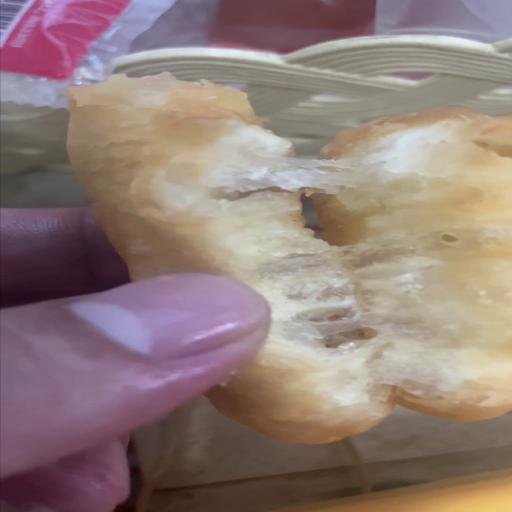street_golden_defect: (71, 95, 510, 440)
